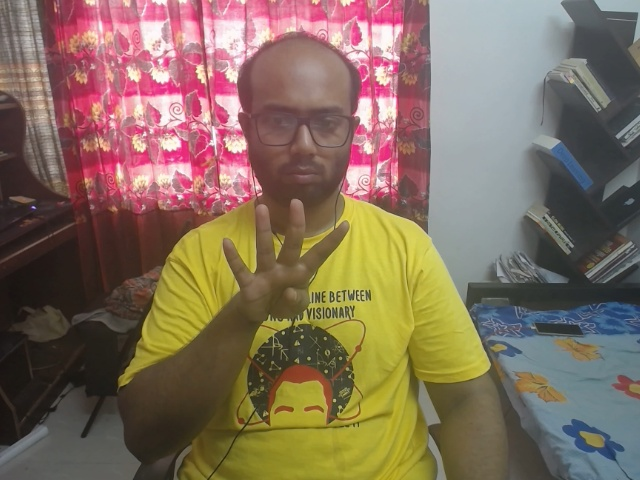four: (212, 190, 368, 335)
